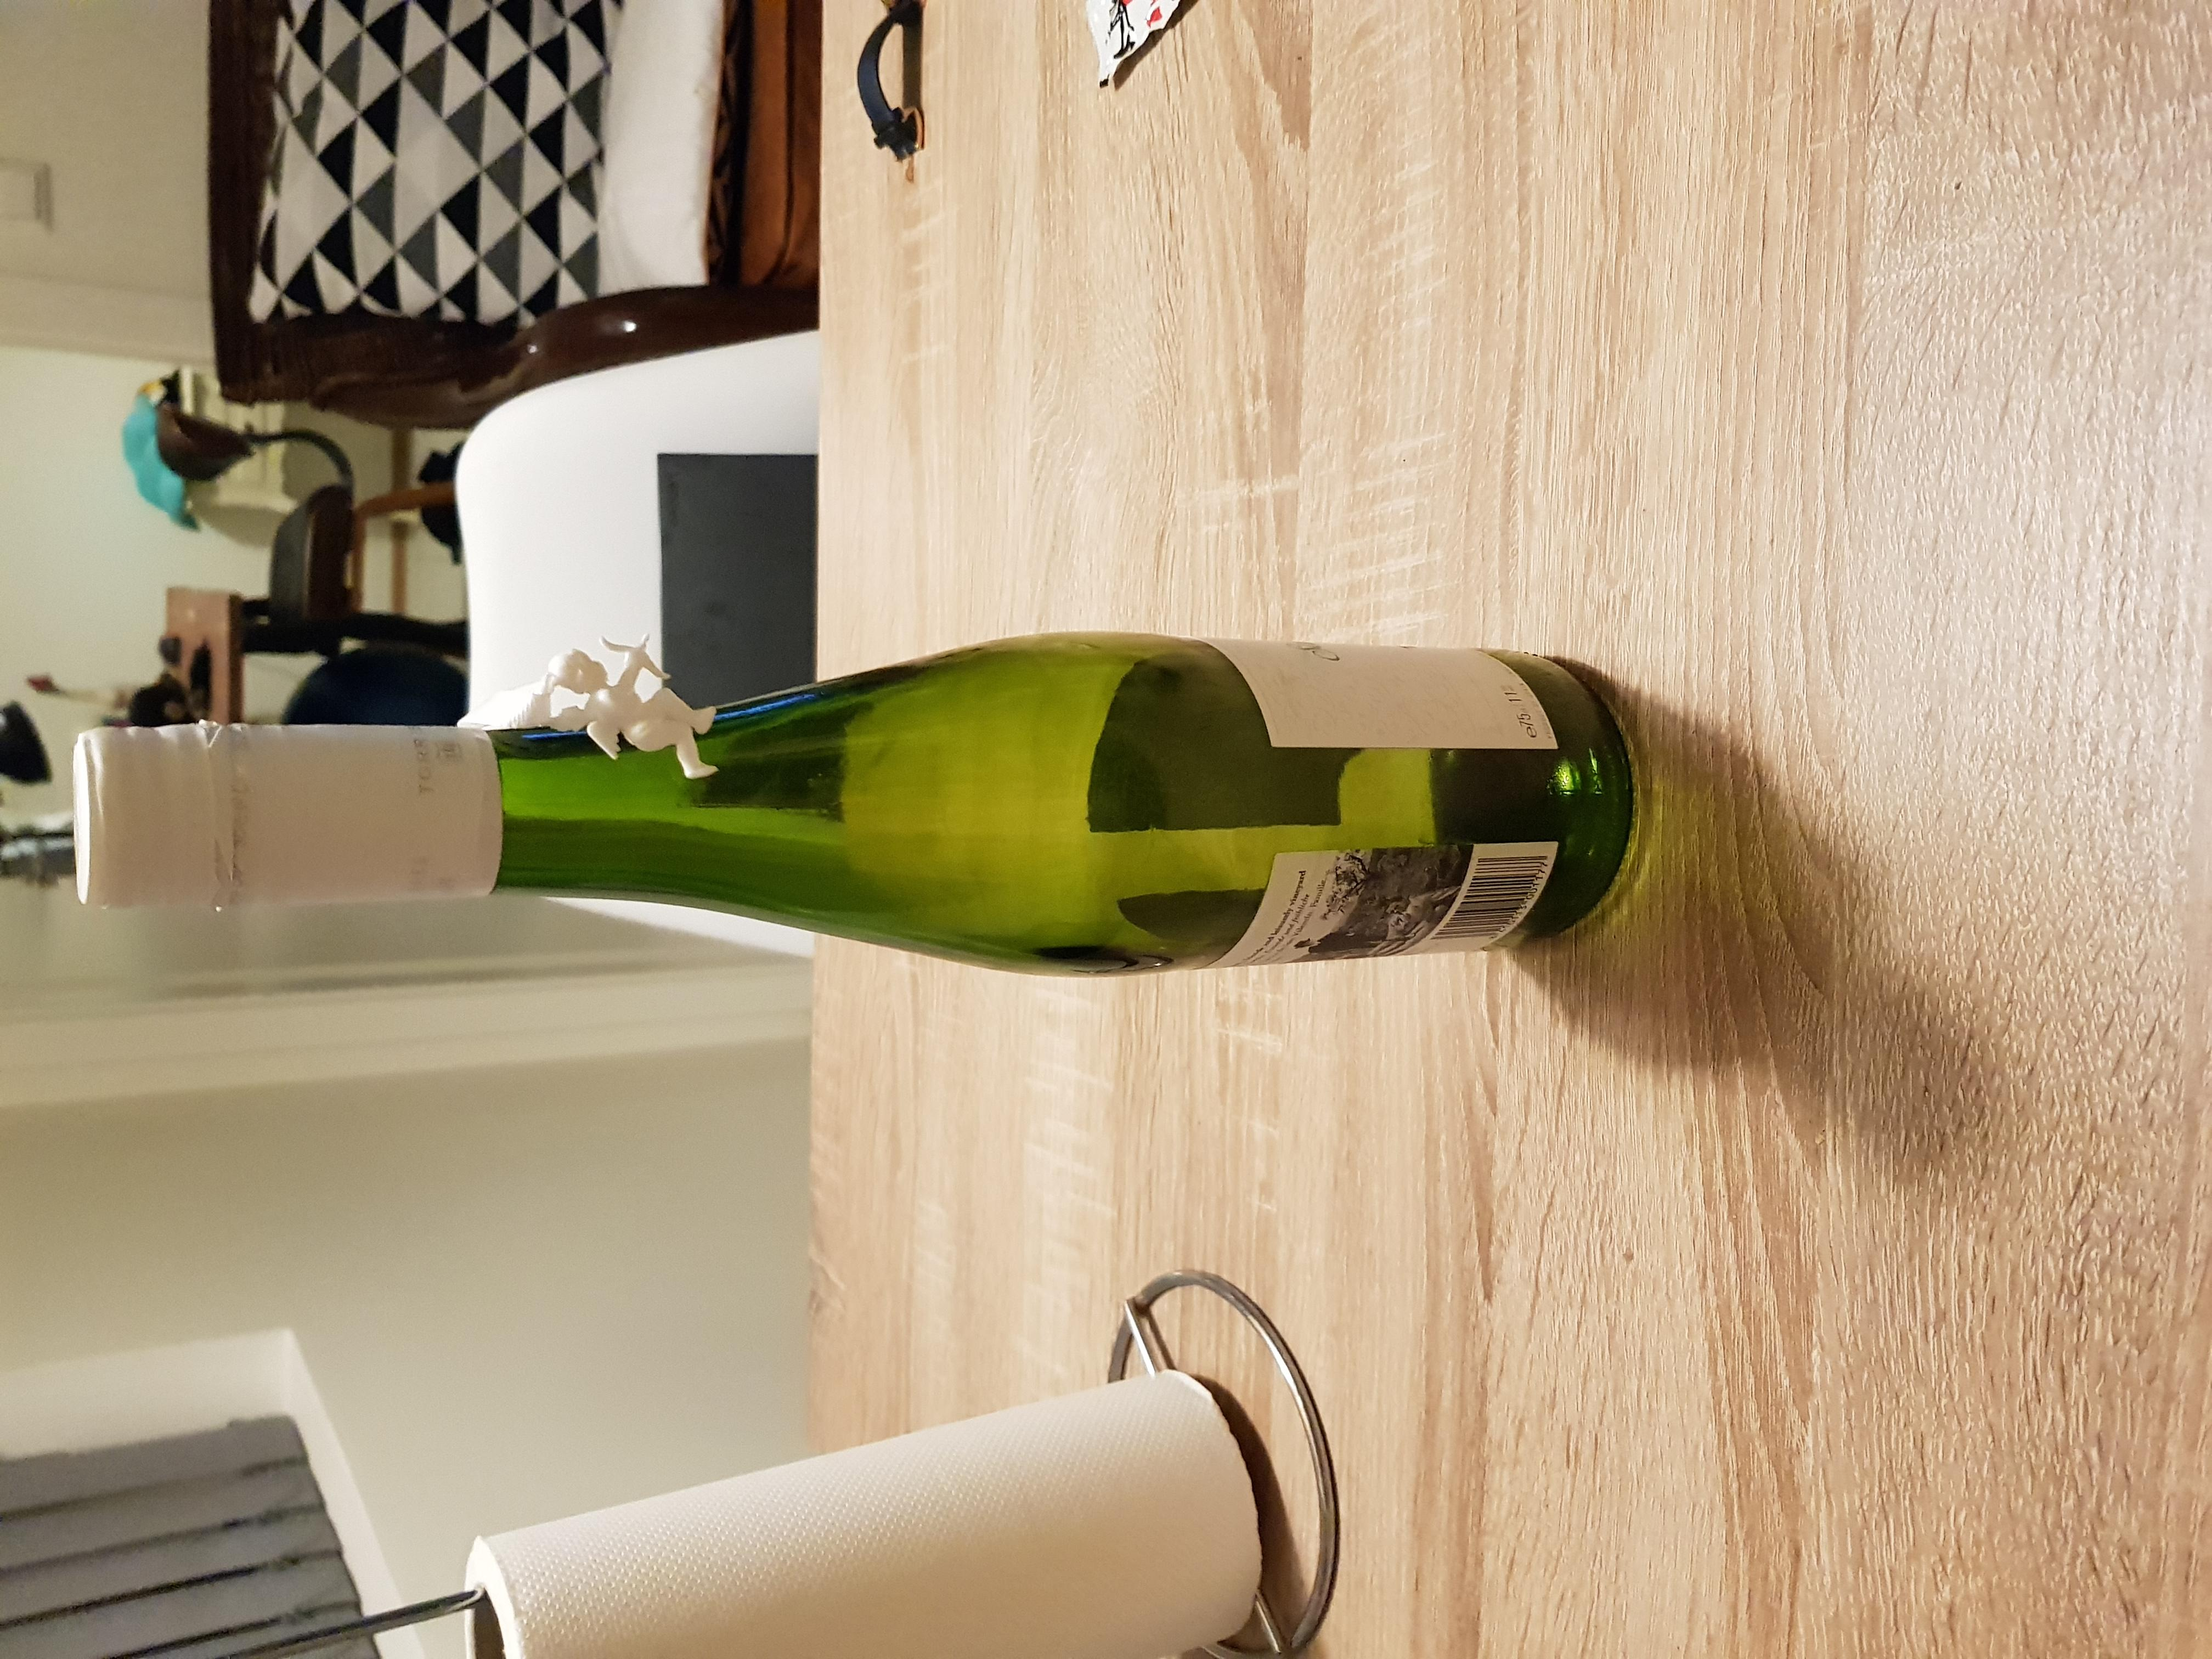Bottle: (68, 638, 1642, 976)
